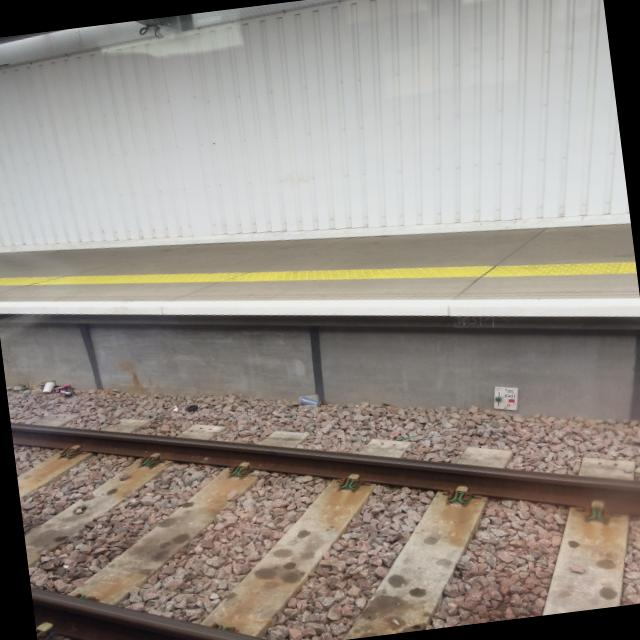Cup: (42, 381, 56, 394), (299, 396, 318, 405)
Drink can: (60, 390, 75, 396)
Lid: (186, 405, 197, 412)
Straw: (37, 384, 45, 385)
Unlabeled litter: (53, 385, 70, 393)
